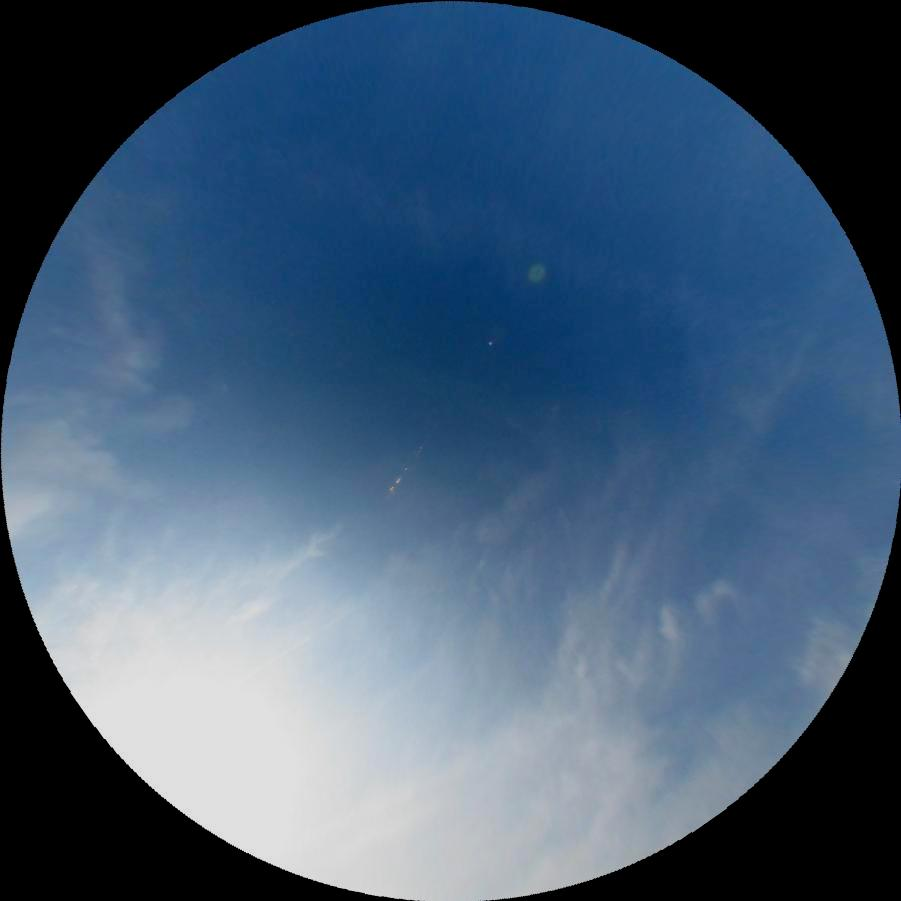contrail veryold: (310, 156, 901, 429)
parasite: (248, 603, 355, 674)
sun: (57, 589, 415, 901)
